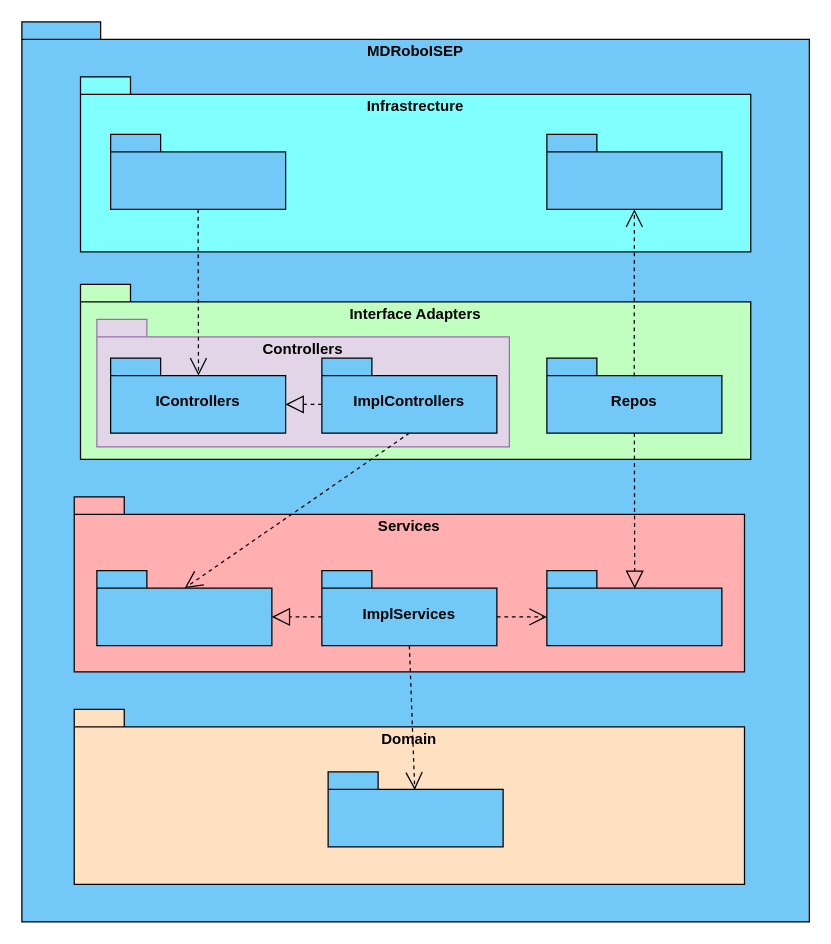
This 831x944 diagram has some shape labels left out. Here are the shapes that lost their labels. From the top down, the centre of each, then its label:
the point at 197,171: Routes
the point at 634,171: Persistence
the point at 184,607: IServices
the point at 634,607: IRepos
the point at 415,809: Edificio
